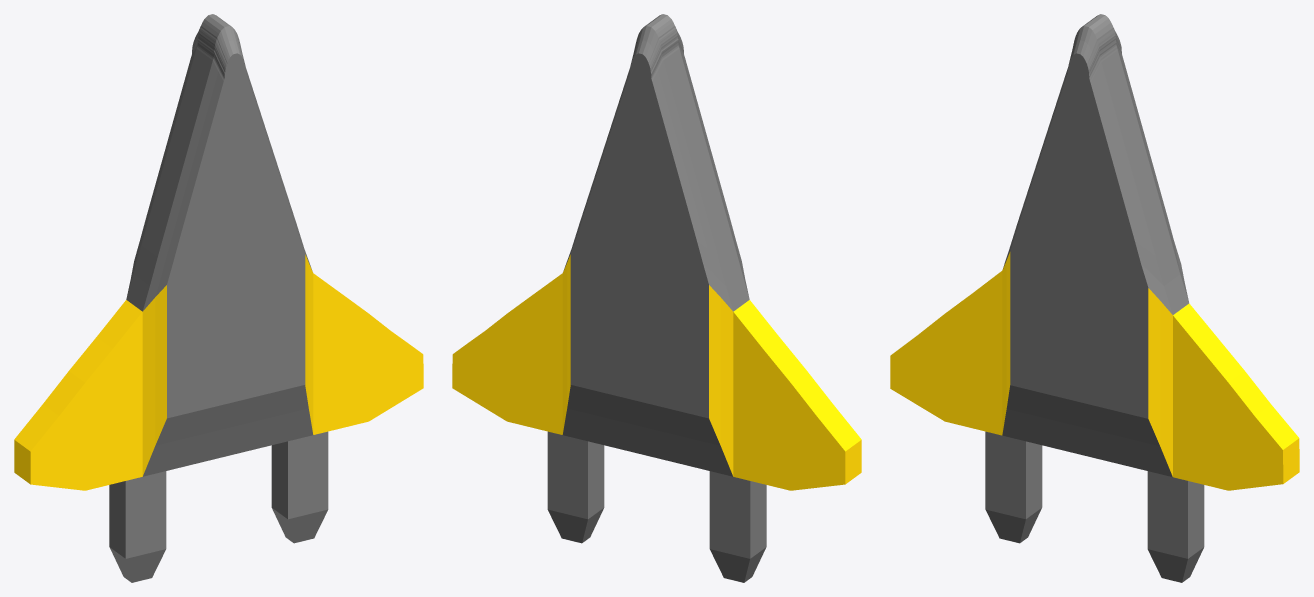
File: Spaceship.fbx
3 renders of one model, left to right at view 1: azimuth 30°, elevation 25°; view 2: azimuth 150°, elevation 25°; view 3: azimuth 330°, elevation 25°, orthographic.
Visible parts, largest first — view 1: Cube, Cube.001; view 2: Cube, Cube.001; view 3: Cube, Cube.001.
Boxes of the visible parts, left/top/right/bottom form: Cube: left=14, top=14, right=423, bottom=490; Cube.001: left=109, top=431, right=328, bottom=582; Cube: left=452, top=14, right=861, bottom=490; Cube.001: left=547, top=431, right=766, bottom=582; Cube: left=890, top=14, right=1299, bottom=490; Cube.001: left=985, top=431, right=1204, bottom=582.
Bounding box in the file's own units: 277 × 362 × 40.
